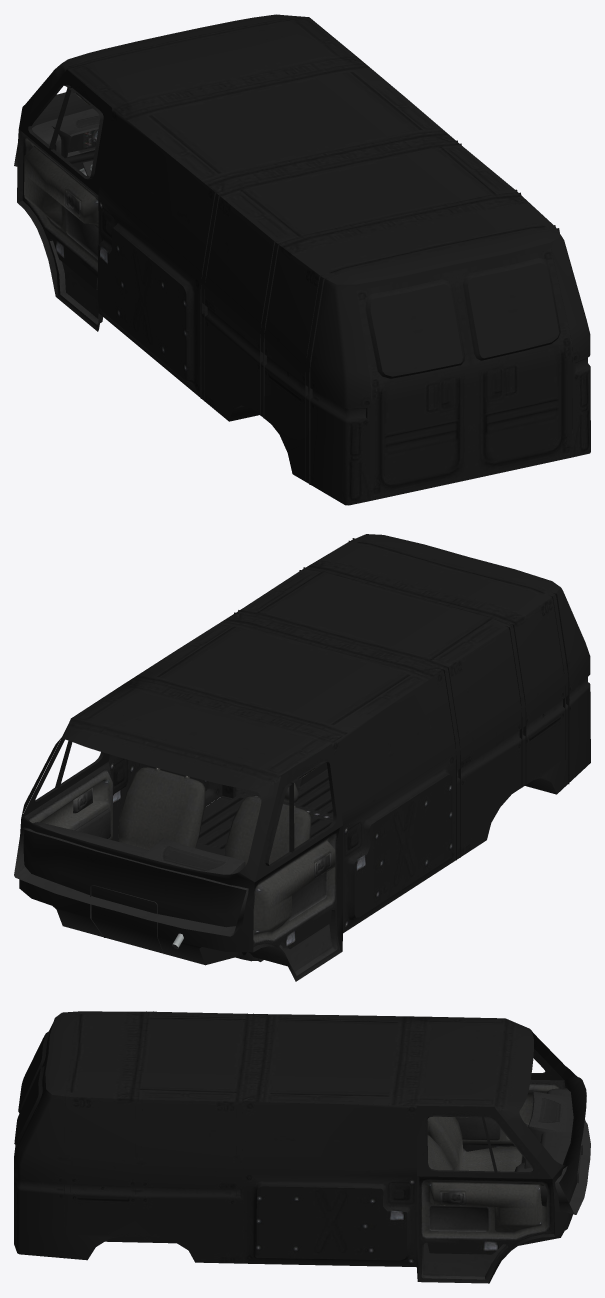
The model's file is shvan92_interior_ucb_interiors_1_0.002_lev3.glb.
The picture shows the model from 3 angles, top to bottom: view 1: azimuth 30°, elevation 25°; view 2: azimuth 150°, elevation 25°; view 3: azimuth 270°, elevation 25°; orthographic projection. The views are drawn at different scales.
Parts seen in each view (by area): view 1: shvan92_interior_ucb_interiors_1_0.002_lev3; view 2: shvan92_interior_ucb_interiors_1_0.002_lev3; view 3: shvan92_interior_ucb_interiors_1_0.002_lev3.
Part boxes in pixels (left/top/right/bottom): shvan92_interior_ucb_interiors_1_0.002_lev3: left=14, top=14, right=590, bottom=505; shvan92_interior_ucb_interiors_1_0.002_lev3: left=14, top=534, right=590, bottom=981; shvan92_interior_ucb_interiors_1_0.002_lev3: left=14, top=1011, right=590, bottom=1283.
Size of the model in its own units: 1.94 by 1.43 by 4.3.
Materials: 1 (1 with a texture image).
